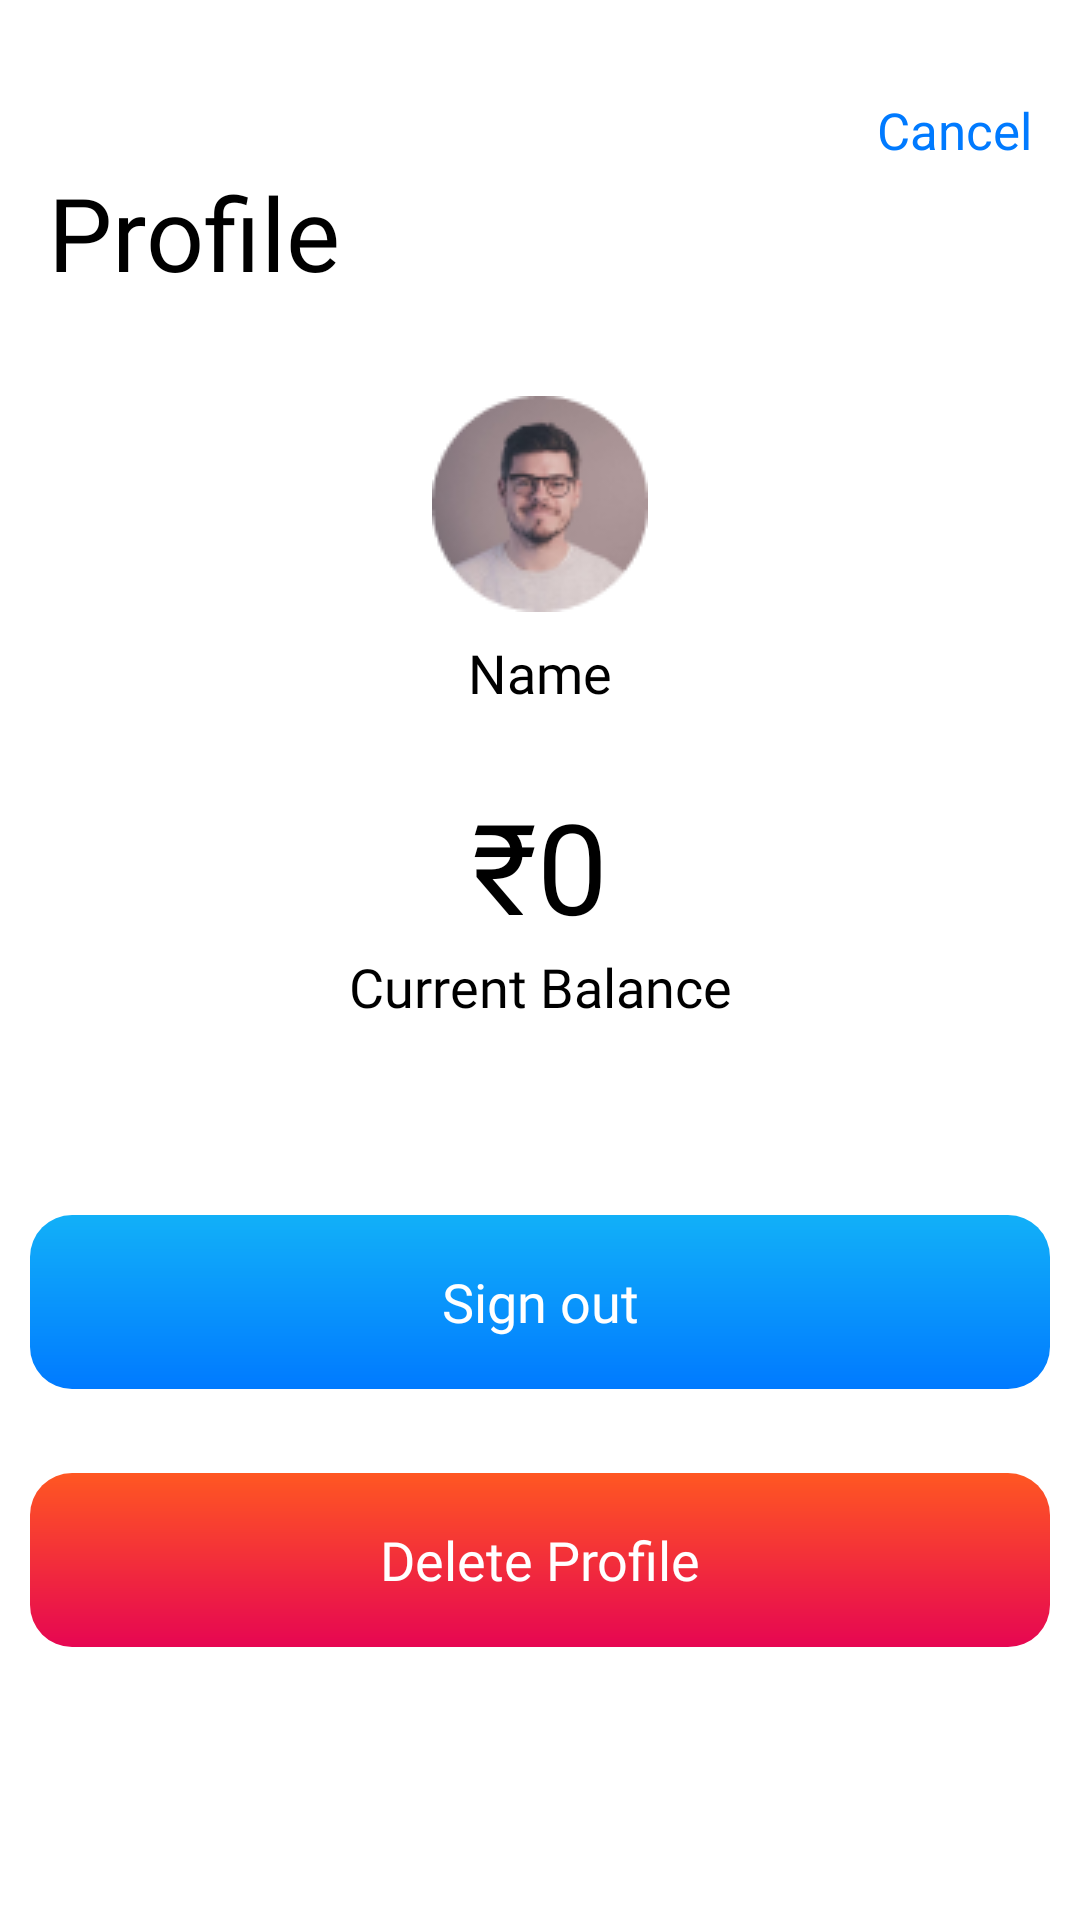

Icons on this 1080×1920 Android screen, each with its box as (x1, y1, x2, y2):
user pic: (432, 396, 648, 612)
